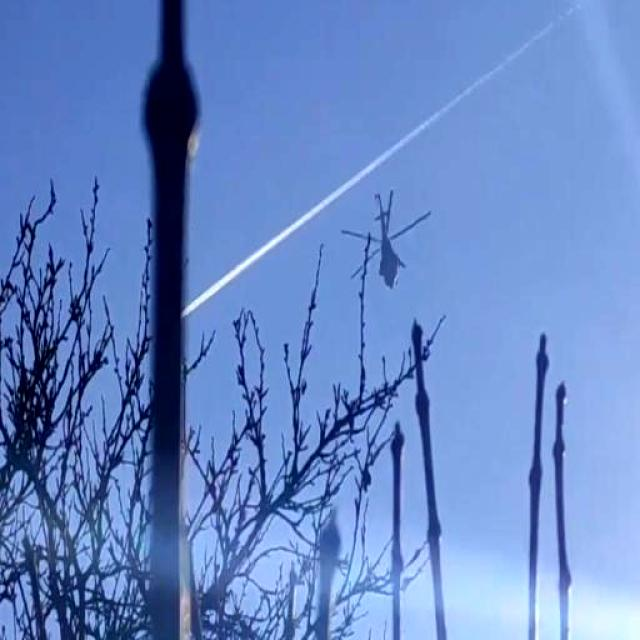drone: (354, 181, 430, 294)
